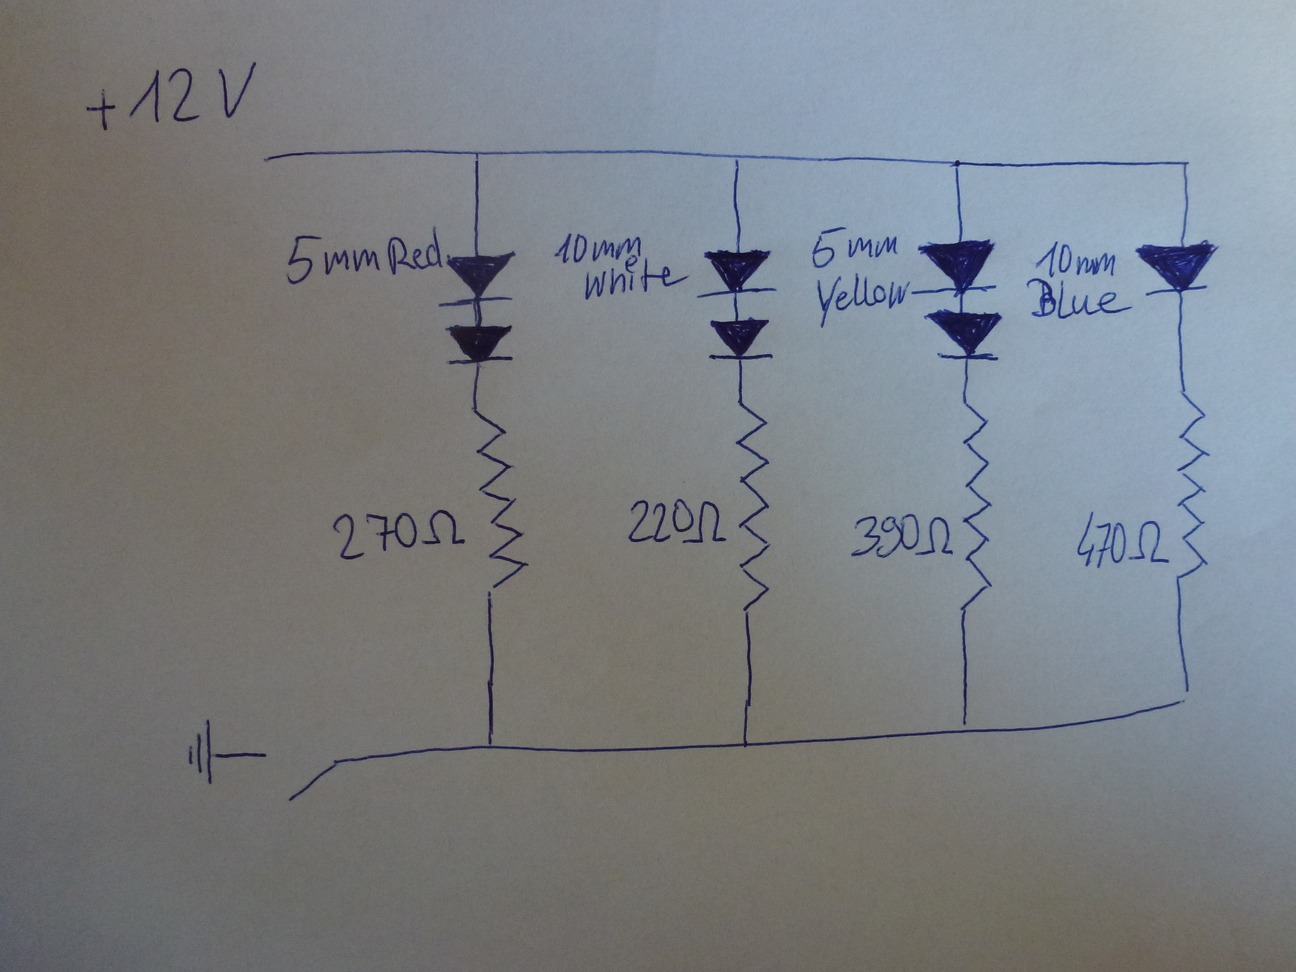diode: (909, 234, 1005, 299), (436, 248, 519, 311), (1135, 240, 1222, 299), (693, 244, 781, 302), (921, 306, 1005, 364), (442, 321, 517, 369), (705, 315, 777, 364)
gnd: (184, 715, 223, 787)
junction: (1169, 677, 1201, 714), (947, 709, 980, 740), (473, 729, 503, 762), (734, 733, 756, 754), (468, 146, 486, 164), (728, 151, 746, 167), (1175, 156, 1193, 172), (949, 156, 966, 172)
resistor: (473, 408, 531, 600), (1172, 372, 1217, 586), (734, 390, 777, 615), (961, 384, 996, 603)
switch: (259, 747, 341, 804)
terminal: (254, 147, 282, 172)
text: (77, 52, 262, 141), (283, 225, 444, 288), (329, 505, 464, 562), (1071, 514, 1172, 577), (627, 495, 734, 553), (851, 512, 959, 565), (580, 253, 692, 301), (813, 262, 910, 315), (1025, 276, 1134, 320), (811, 227, 904, 277), (1032, 238, 1119, 279), (550, 230, 643, 265)
